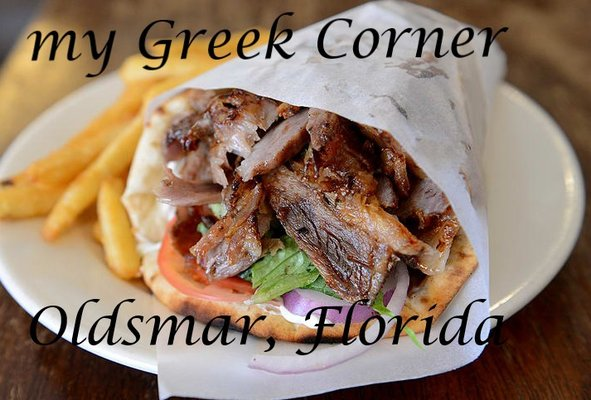soup: (119, 86, 474, 347)
